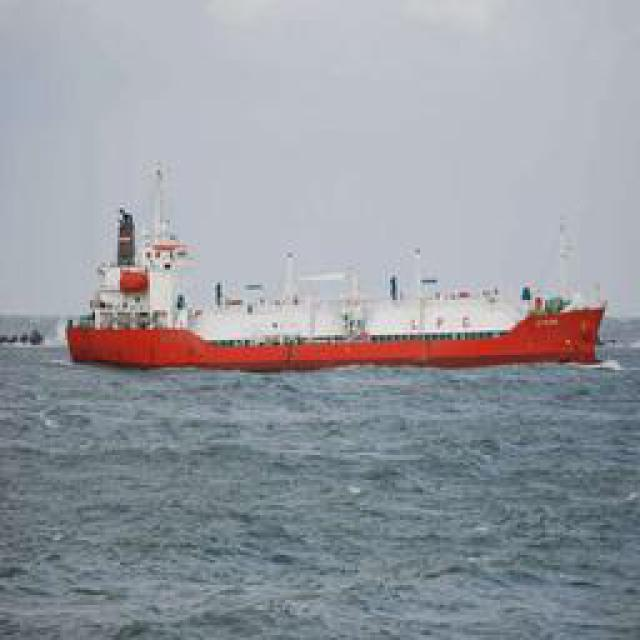Ship: (52, 226, 602, 374)
